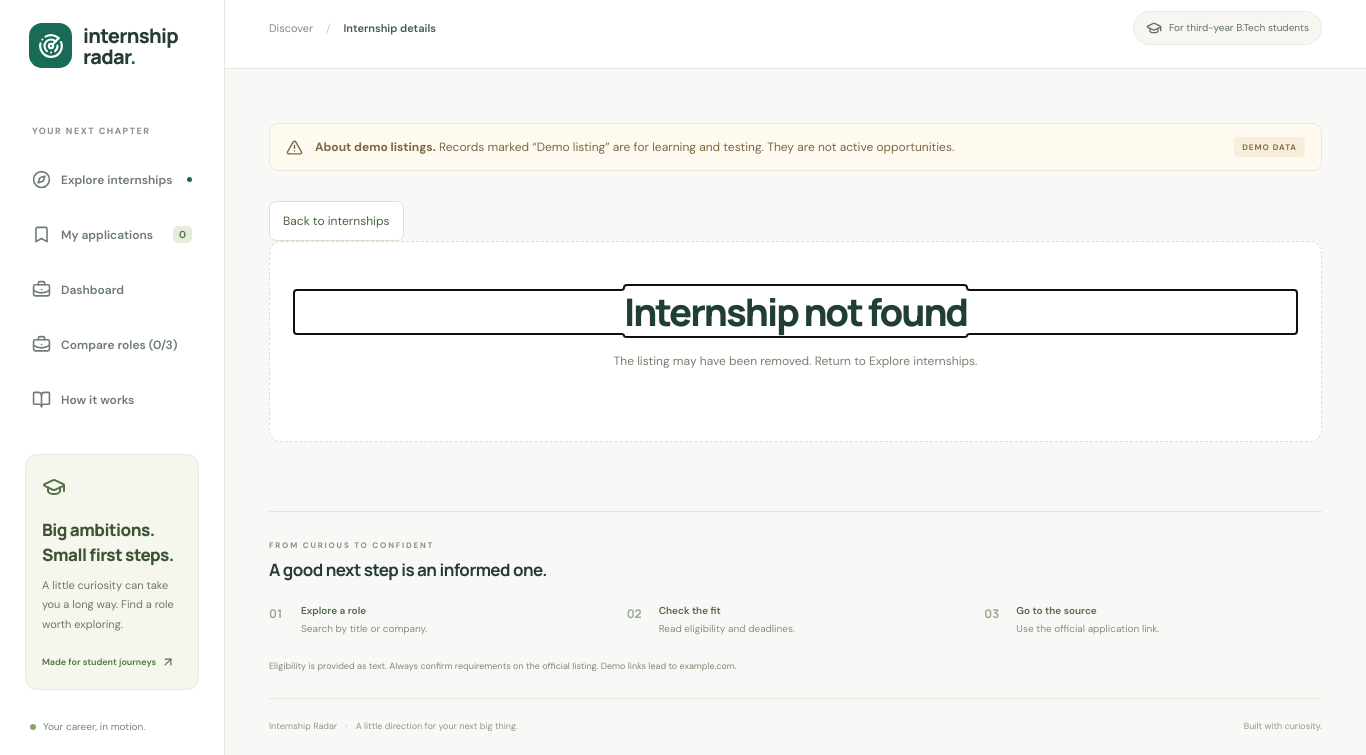
details and comparison integrated with the existing app › shows a missing direct-linked role without crashing the rest of navigation
The image size is (1366, 755).
Expected: the heading "Internship not found" is shown, [624,285,967,337]
Click the button "Back to internships": [336, 221] box [269,201,404,241]
(page scrolled)
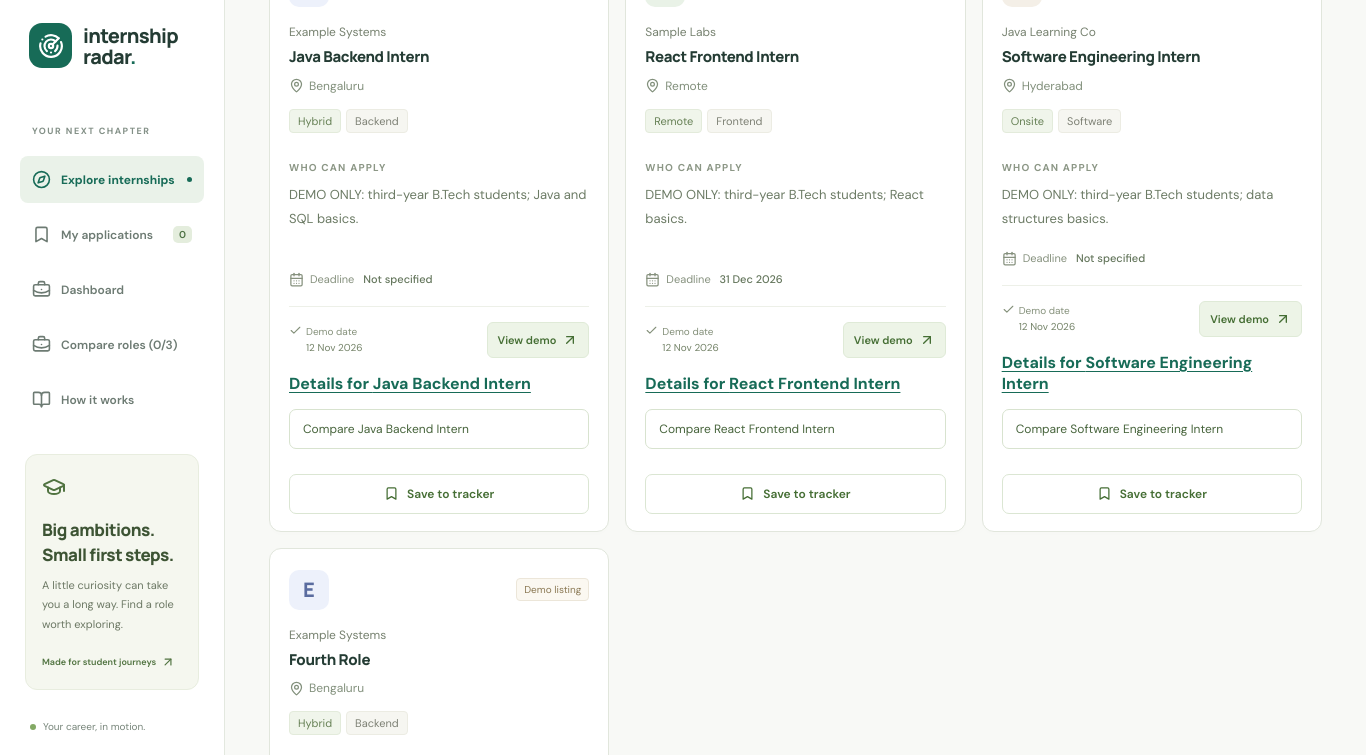
Now the link "Details for Java Backend Intern" is shown, box [289,373,531,394]
